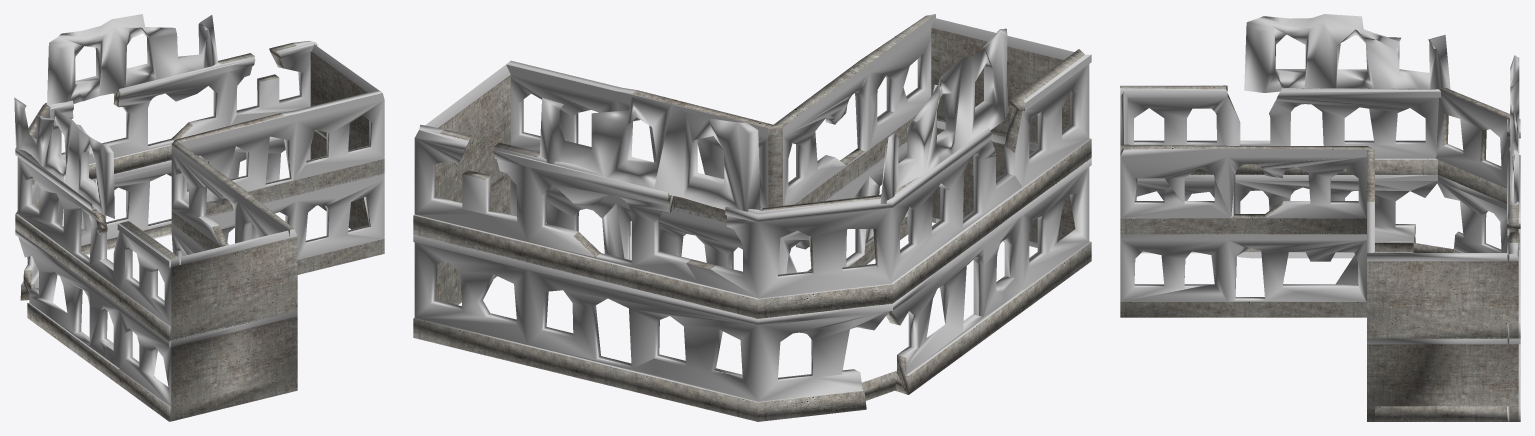
The model's file is angleHouse2_LOD2.fbx.
3 renders of one model, left to right at view 1: azimuth 30°, elevation 25°; view 2: azimuth 150°, elevation 25°; view 3: azimuth 270°, elevation 25°, orthographic. The views are drawn at different scales.
Parts seen in each view (by area): view 1: angleHouse2_LOD2; view 2: angleHouse2_LOD2; view 3: angleHouse2_LOD2.
Boxes of the visible parts, box(x1,y1,x2,y2) form: angleHouse2_LOD2: box(14, 14, 384, 421); angleHouse2_LOD2: box(413, 14, 1091, 421); angleHouse2_LOD2: box(1120, 14, 1520, 421).
Size of the model in its own units: 15.87 by 10.44 by 15.85.
